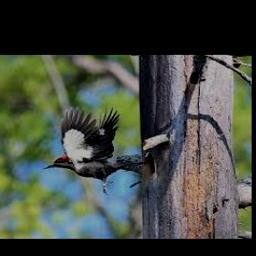Woodpecker: (42, 106, 147, 195)
